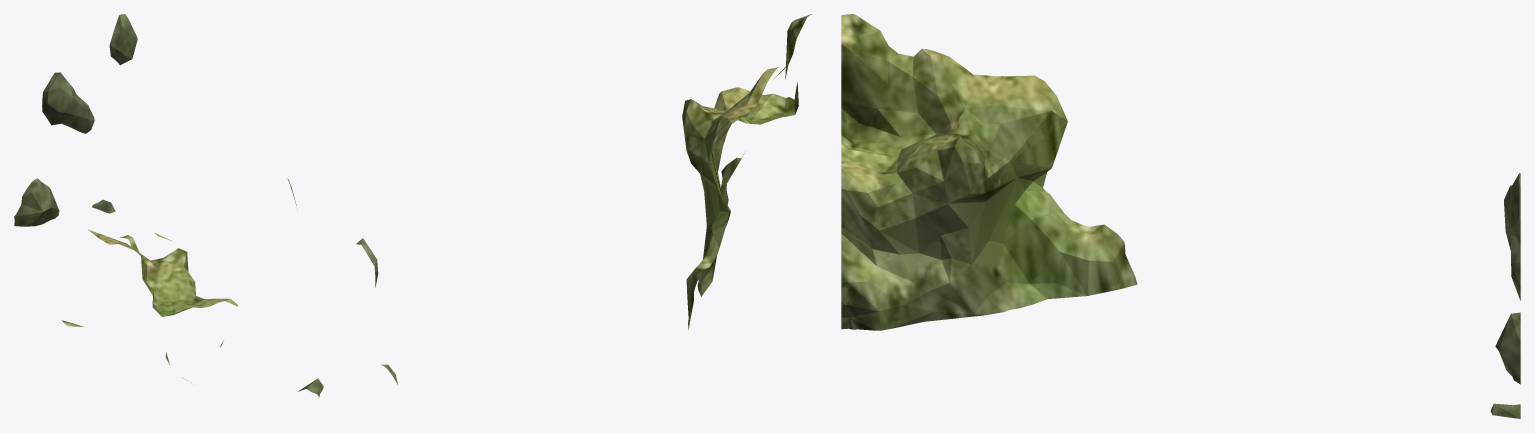
The picture shows the model from 3 angles, left to right: view 1: azimuth 30°, elevation 25°; view 2: azimuth 150°, elevation 25°; view 3: azimuth 270°, elevation 25°; orthographic projection. The views are drawn at different scales.
Bounding box in the file's own units: 3.12 × 2.59 × 5.9.
1 material, 1 textured.
